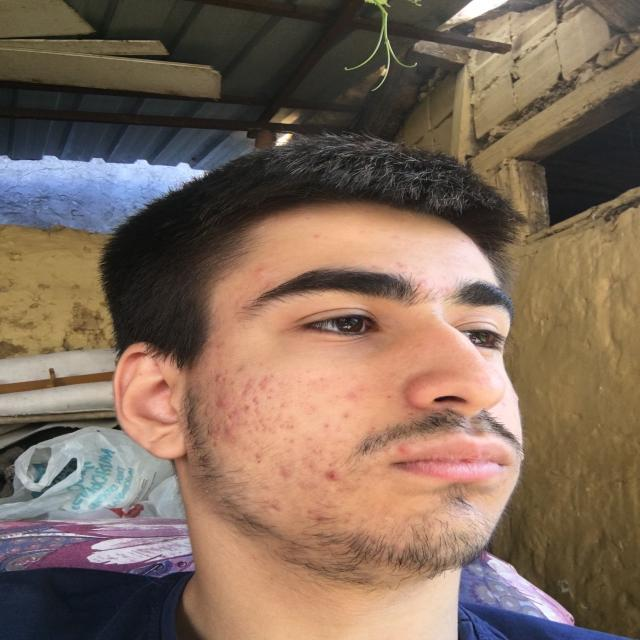acne: (250, 398, 270, 432), (304, 508, 330, 524), (303, 438, 328, 454), (299, 456, 318, 475), (224, 404, 240, 424), (238, 377, 254, 395), (263, 500, 285, 513), (298, 400, 317, 414), (208, 425, 226, 439), (226, 424, 240, 442), (277, 464, 294, 478), (257, 374, 270, 391), (250, 266, 268, 278), (214, 394, 228, 409), (279, 420, 299, 430), (250, 452, 264, 465), (326, 470, 341, 482), (396, 443, 412, 454), (343, 390, 360, 400), (272, 378, 286, 390), (414, 278, 430, 288), (212, 373, 226, 382), (235, 364, 247, 374), (394, 260, 408, 268), (276, 400, 286, 410), (286, 435, 296, 445), (210, 440, 220, 450), (500, 400, 508, 411), (311, 232, 321, 240), (357, 228, 367, 236), (390, 234, 400, 241), (316, 377, 326, 384), (305, 368, 313, 376), (460, 236, 468, 244), (244, 404, 250, 414), (376, 226, 386, 232), (342, 412, 350, 419), (324, 424, 330, 428)
